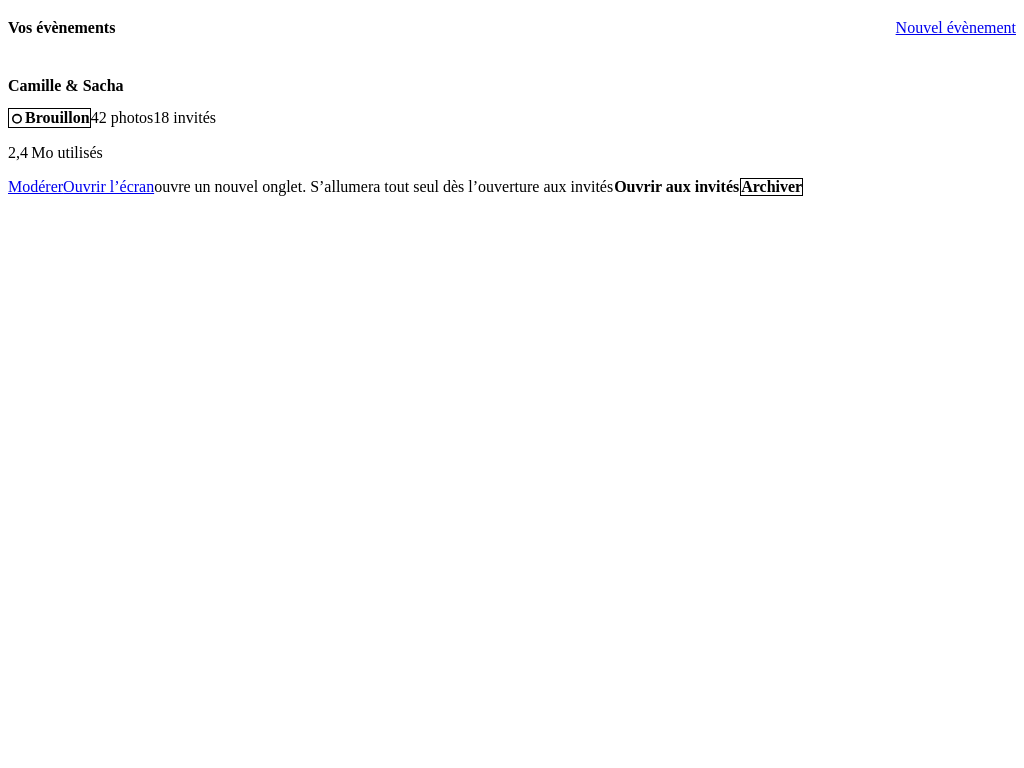
Test: DashboardPage › opens an event to guests and refreshes the figures from the server
Click the button "Ouvrir aux invités": [677, 187] box [613,178,740,196]
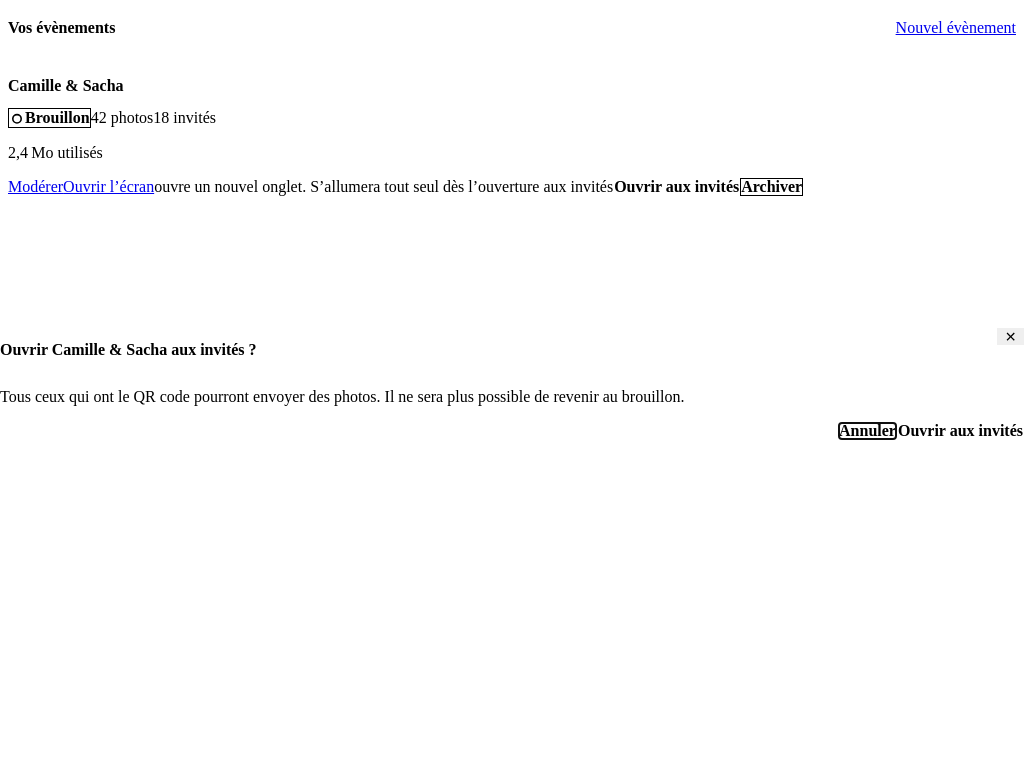
Click the button "Ouvrir aux invités": [960, 431] box [897,422,1023,440]
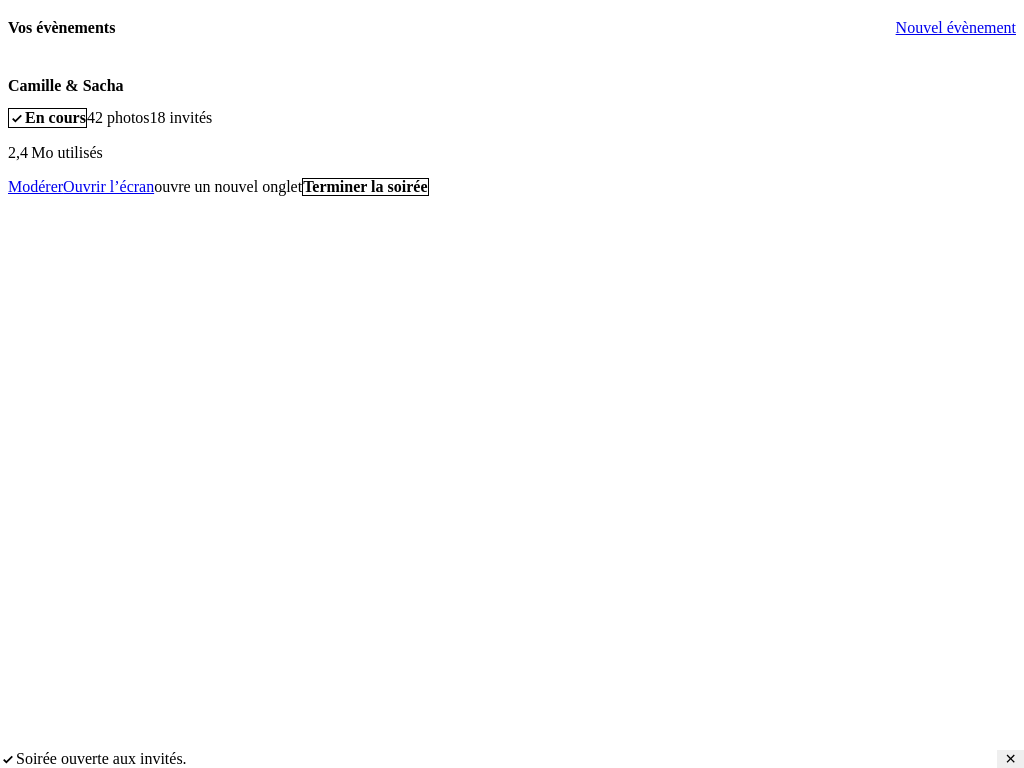
Check: the text "Soirée ouverte aux invités." is shown, box [16,750,187,767]
Check: the text "En cours" is shown, box [8,108,87,128]
